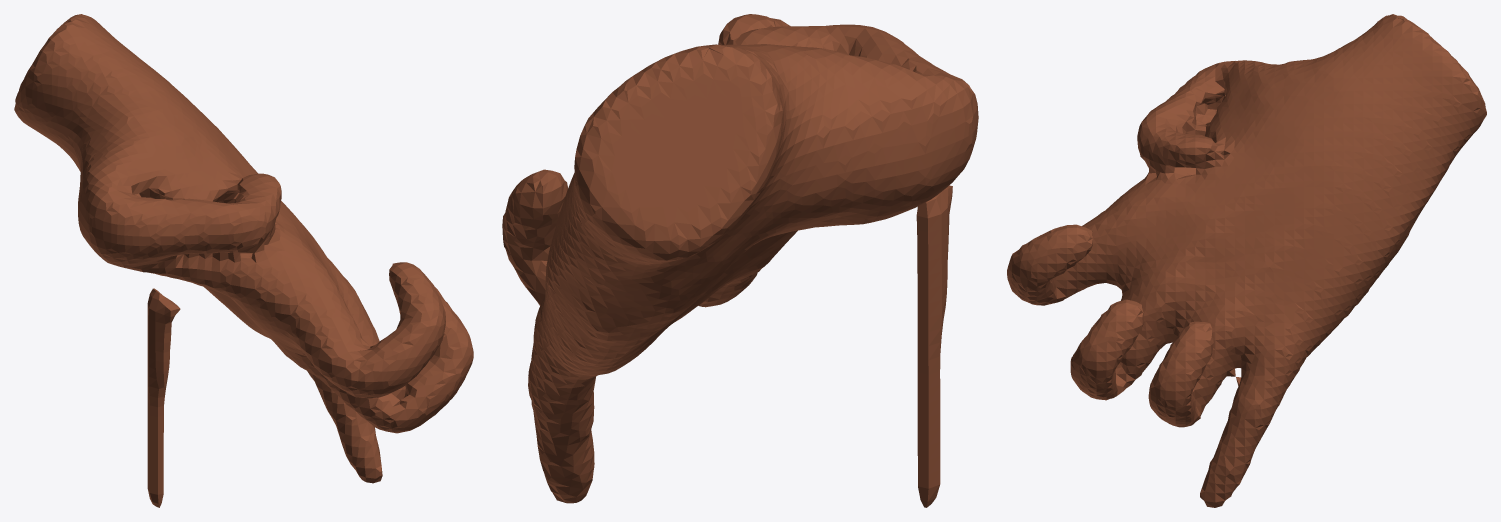
Rendered from hand-fist.glb.
The picture shows the model from 3 angles, left to right: view 1: azimuth 30°, elevation 25°; view 2: azimuth 150°, elevation 25°; view 3: azimuth 270°, elevation 25°; orthographic projection. The views are drawn at different scales.
Visible parts, largest first — view 1: hand-fist; view 2: hand-fist; view 3: hand-fist.
Boxes of the visible parts, x1,y1,x2,y2 form: hand-fist: (14,14,473,507); hand-fist: (502,14,978,507); hand-fist: (1007,14,1486,507).
Bounding box in the file's own units: 0.1096 × 0.1336 × 0.1457.
